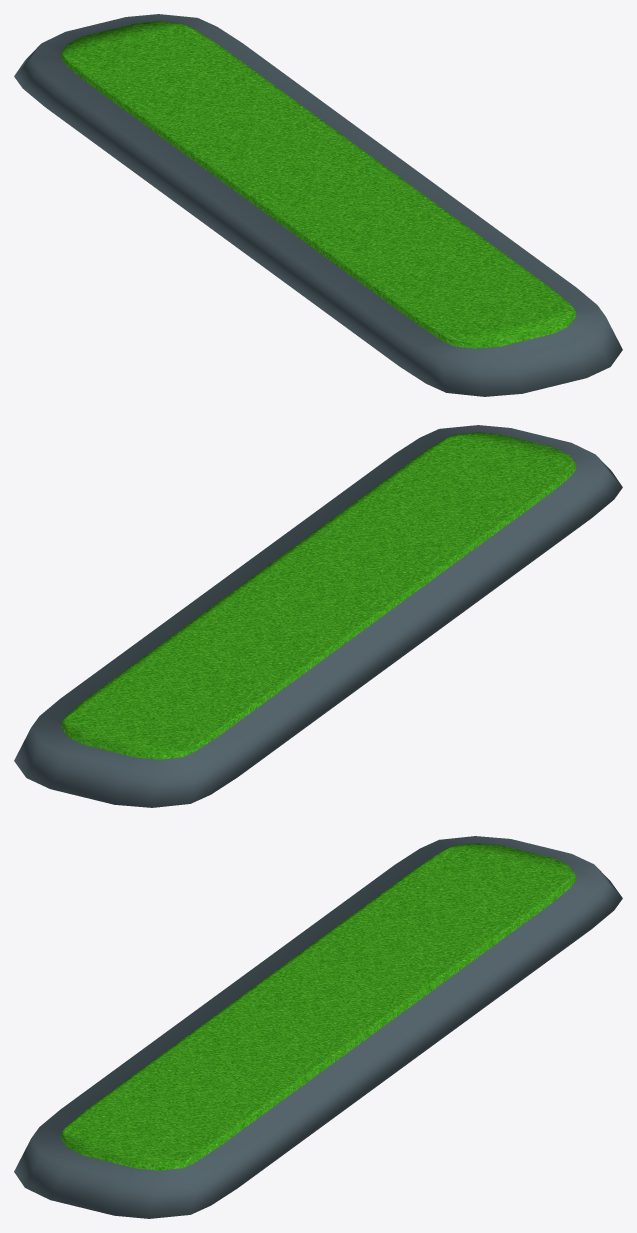
3 views of the same model, one above another, from view 1: azimuth 30°, elevation 25°; view 2: azimuth 150°, elevation 25°; view 3: azimuth 330°, elevation 25° (orthographic).
Parts seen in each view (by area): view 1: Base; view 2: Base; view 3: Base.
Part boxes in pixels (<box>): Base: <box>14,14,622,396</box>; Base: <box>14,425,622,807</box>; Base: <box>14,836,622,1218</box>.
Bounding box in the file's own units: 0.2135 × 0.0326 × 0.9052.
2 materials, 2 textured.
